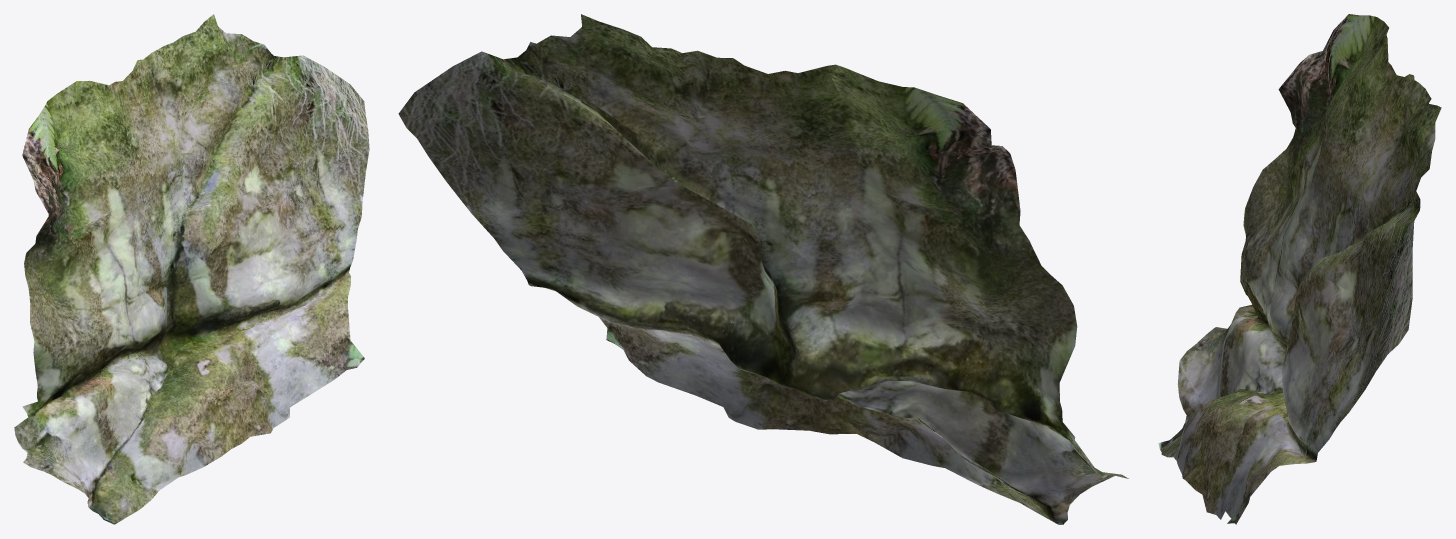
File: Mossy_Formation_1.glb
The picture shows the model from 3 angles, left to right: view 1: azimuth 30°, elevation 25°; view 2: azimuth 150°, elevation 25°; view 3: azimuth 270°, elevation 25°; orthographic projection. The views are drawn at different scales.
Visible parts, largest first — view 1: Mossy_Formation_1; view 2: Mossy_Formation_1; view 3: Mossy_Formation_1.
Boxes of the visible parts, x1,y1,x2,y2 form: Mossy_Formation_1: (14, 14, 369, 524); Mossy_Formation_1: (398, 14, 1128, 524); Mossy_Formation_1: (1158, 14, 1441, 524).
Bounding box in the file's own units: 1.63 × 1.4 × 0.765.
Materials: 1 (1 with a texture image).
